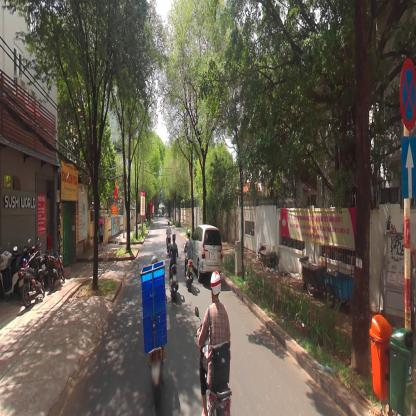Cam dung va do: (400, 56, 416, 131)
